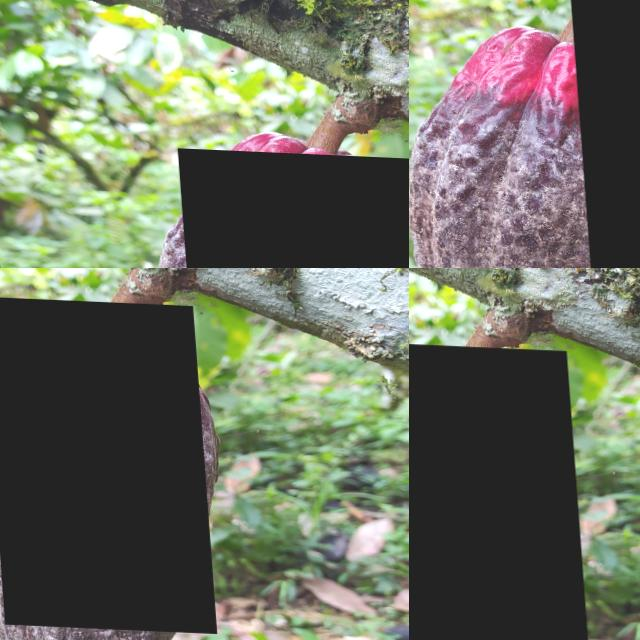Fitoftora: (0, 294, 209, 630), (409, 337, 588, 640), (567, 0, 640, 268)
Monilia: (174, 147, 409, 268)
